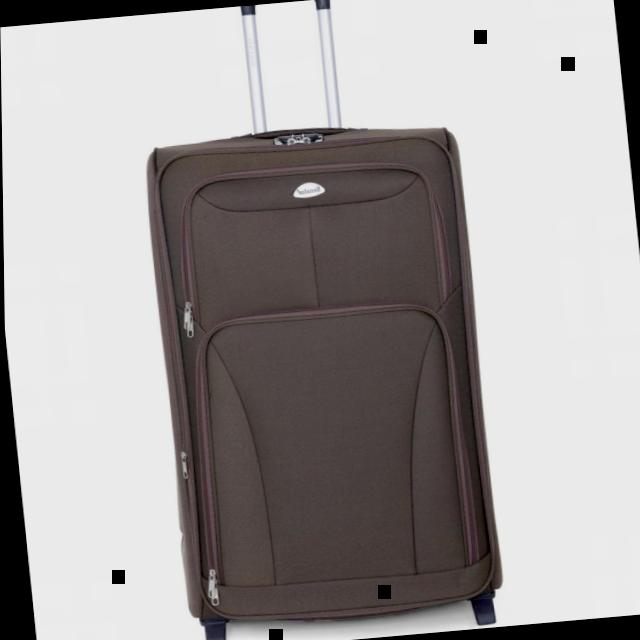luggage: (129, 102, 515, 640)
